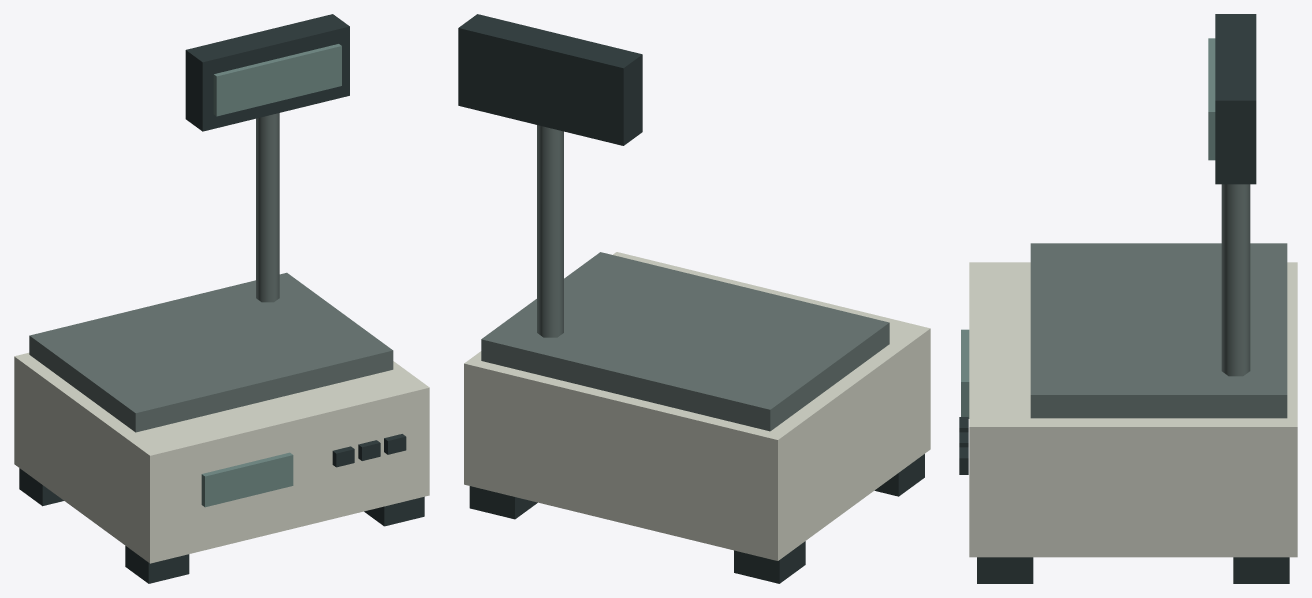
3 renders of one model, left to right at view 1: azimuth 30°, elevation 25°; view 2: azimuth 150°, elevation 25°; view 3: azimuth 270°, elevation 25°, orthographic. The views are drawn at different scales.
Visible parts, largest first — view 1: part-5, part-6, part-12, part-13, part-11, part-7, part-2, part-4, part-1; view 2: part-5, part-6, part-12, part-11, part-1, part-3, part-2; view 3: part-5, part-6, part-12, part-11, part-3, part-4, part-13, part-7.
Boxes of the visible parts, x1,y1,x2,y2 form: part-5: (14, 352, 429, 563); part-6: (29, 272, 393, 432); part-12: (185, 14, 349, 131); part-13: (213, 44, 341, 116); part-11: (256, 113, 279, 302); part-7: (201, 452, 293, 507); part-2: (125, 546, 189, 583); part-4: (364, 496, 424, 526); part-1: (19, 468, 63, 506); part-5: (464, 252, 930, 560); part-6: (481, 252, 889, 431); part-12: (458, 14, 642, 145); part-11: (537, 125, 563, 337); part-1: (734, 541, 805, 583); part-3: (469, 486, 537, 519); part-2: (874, 454, 924, 496); part-5: (969, 262, 1297, 557); part-6: (1030, 243, 1287, 418); part-12: (1215, 14, 1256, 184); part-11: (1221, 184, 1250, 376); part-3: (1233, 557, 1289, 583); part-4: (977, 557, 1033, 583); part-13: (1208, 38, 1215, 160); part-7: (961, 329, 969, 418).
Size of the model in its own units: 0.41 by 0.535 by 0.3295.
